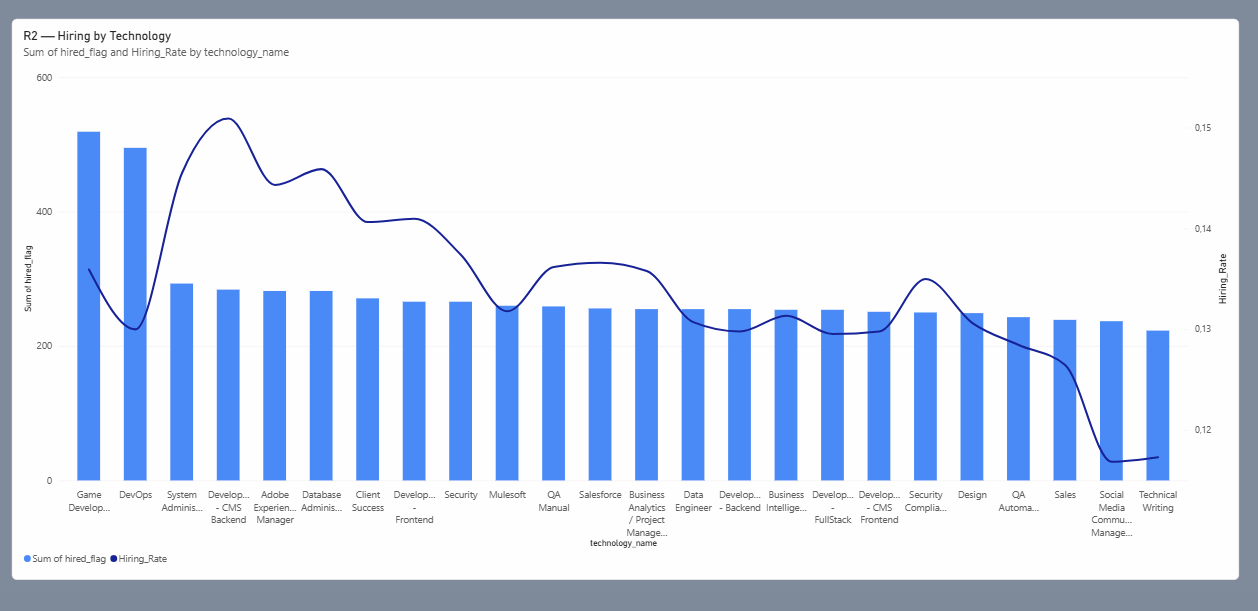

This screenshot's page, from the dashboard's own definition file:
{"tool":"powerbi","page":{"name":"Hired by Technology and Its Rate","canvas":[1920,1080],"ordinal":1},"visuals":[{"type":"lineClusteredColumnComboChart","title":"R2 — Hiring by Technology","fields":{"Category":["dim_technology.technology_name"],"Y":["Sum(fact_application.hired_flag)"],"Y2":["fact_application.Hiring_Rate"]},"box":[57.1,108.6,1807.4,826.4],"z":0}]}

Visuals, with their boxes on the page's 1920x1080 design canvas (x1, y1, x2, y2). These are canvas units, not pixel positions in the 1258x611 screenshot, which may show the page scaled, cropped or inside an application window:
"R2 — Hiring by Technology" lineClusteredColumnComboChart: bbox(57, 109, 1864, 935)
